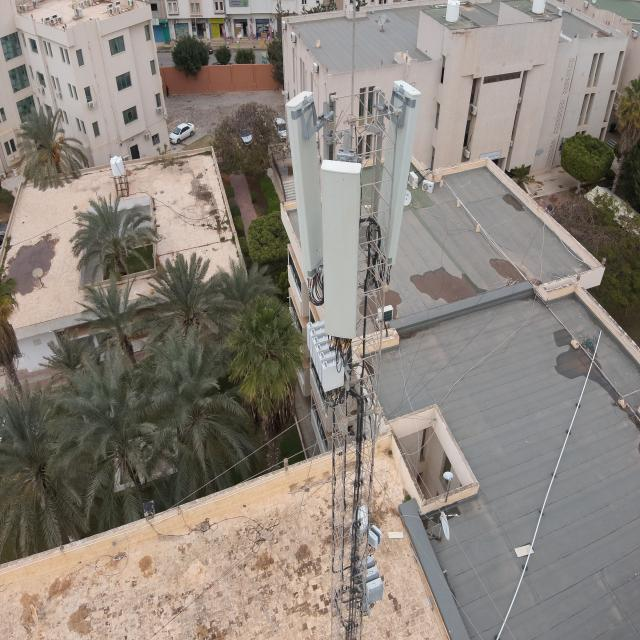antenna: (368, 82, 423, 300), (316, 153, 366, 348), (286, 80, 332, 290)
lighnig-rad: (347, 0, 361, 118)
microware-dish: (351, 498, 390, 554)
power-box: (354, 553, 384, 604)
radio-unit: (300, 318, 356, 398)
